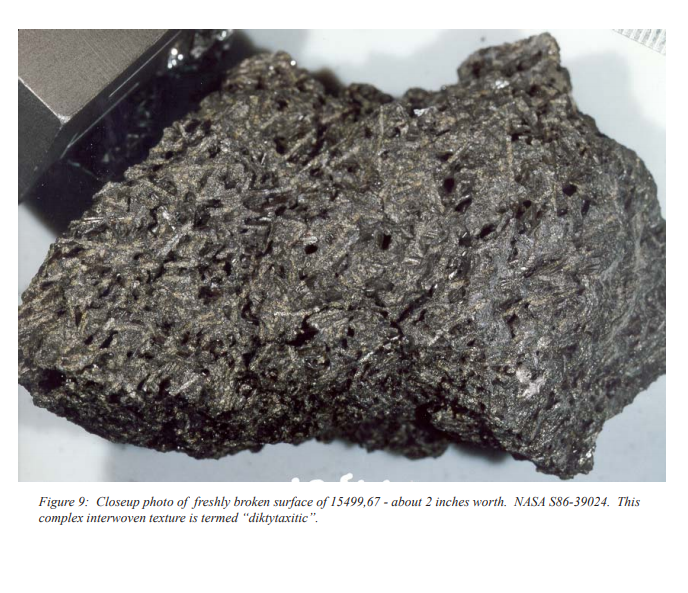Basalt: (81, 105, 655, 451), (225, 52, 651, 475)
